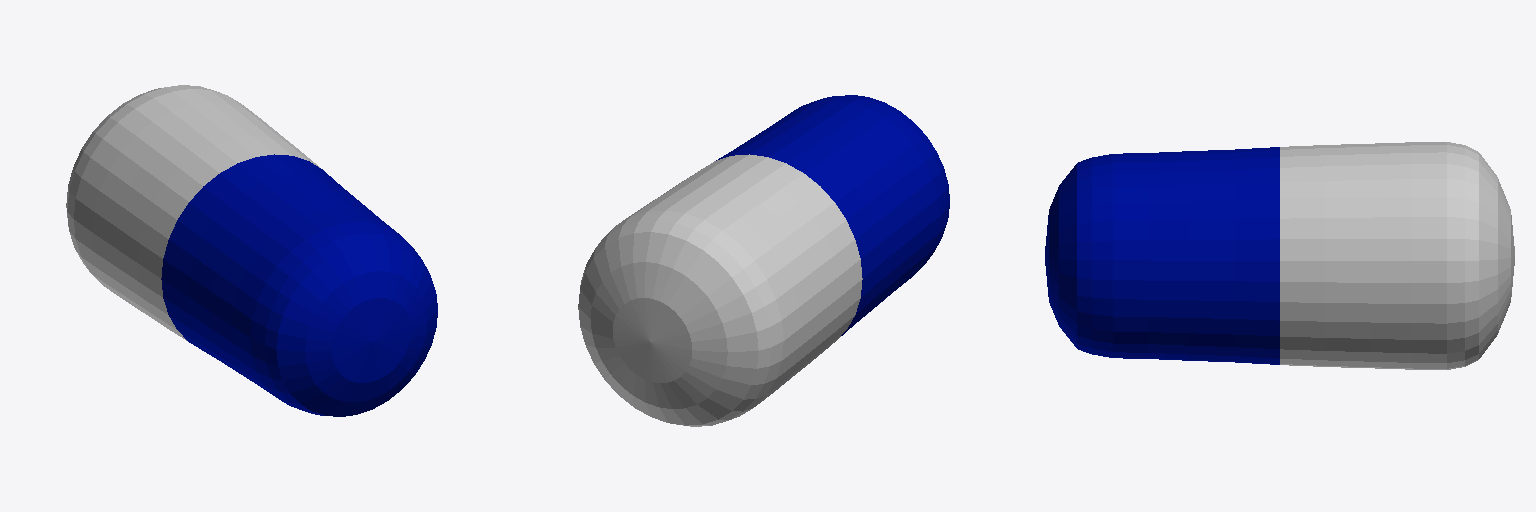
The model's file is pill.obj.
The picture shows the model from 3 angles: view 1: azimuth 30°, elevation 25°; view 2: azimuth 150°, elevation 25°; view 3: azimuth 270°, elevation 25°; orthographic projection.
Parts seen in each view (by area): view 1: Sphere; view 2: Sphere; view 3: Sphere.
Boxes of the visible parts, x1,y1,x2,y2 form: Sphere: [66, 85, 437, 416]; Sphere: [578, 95, 949, 426]; Sphere: [1045, 142, 1514, 369].
Bounding box in the file's own units: 4.47 × 4.47 × 9.21.